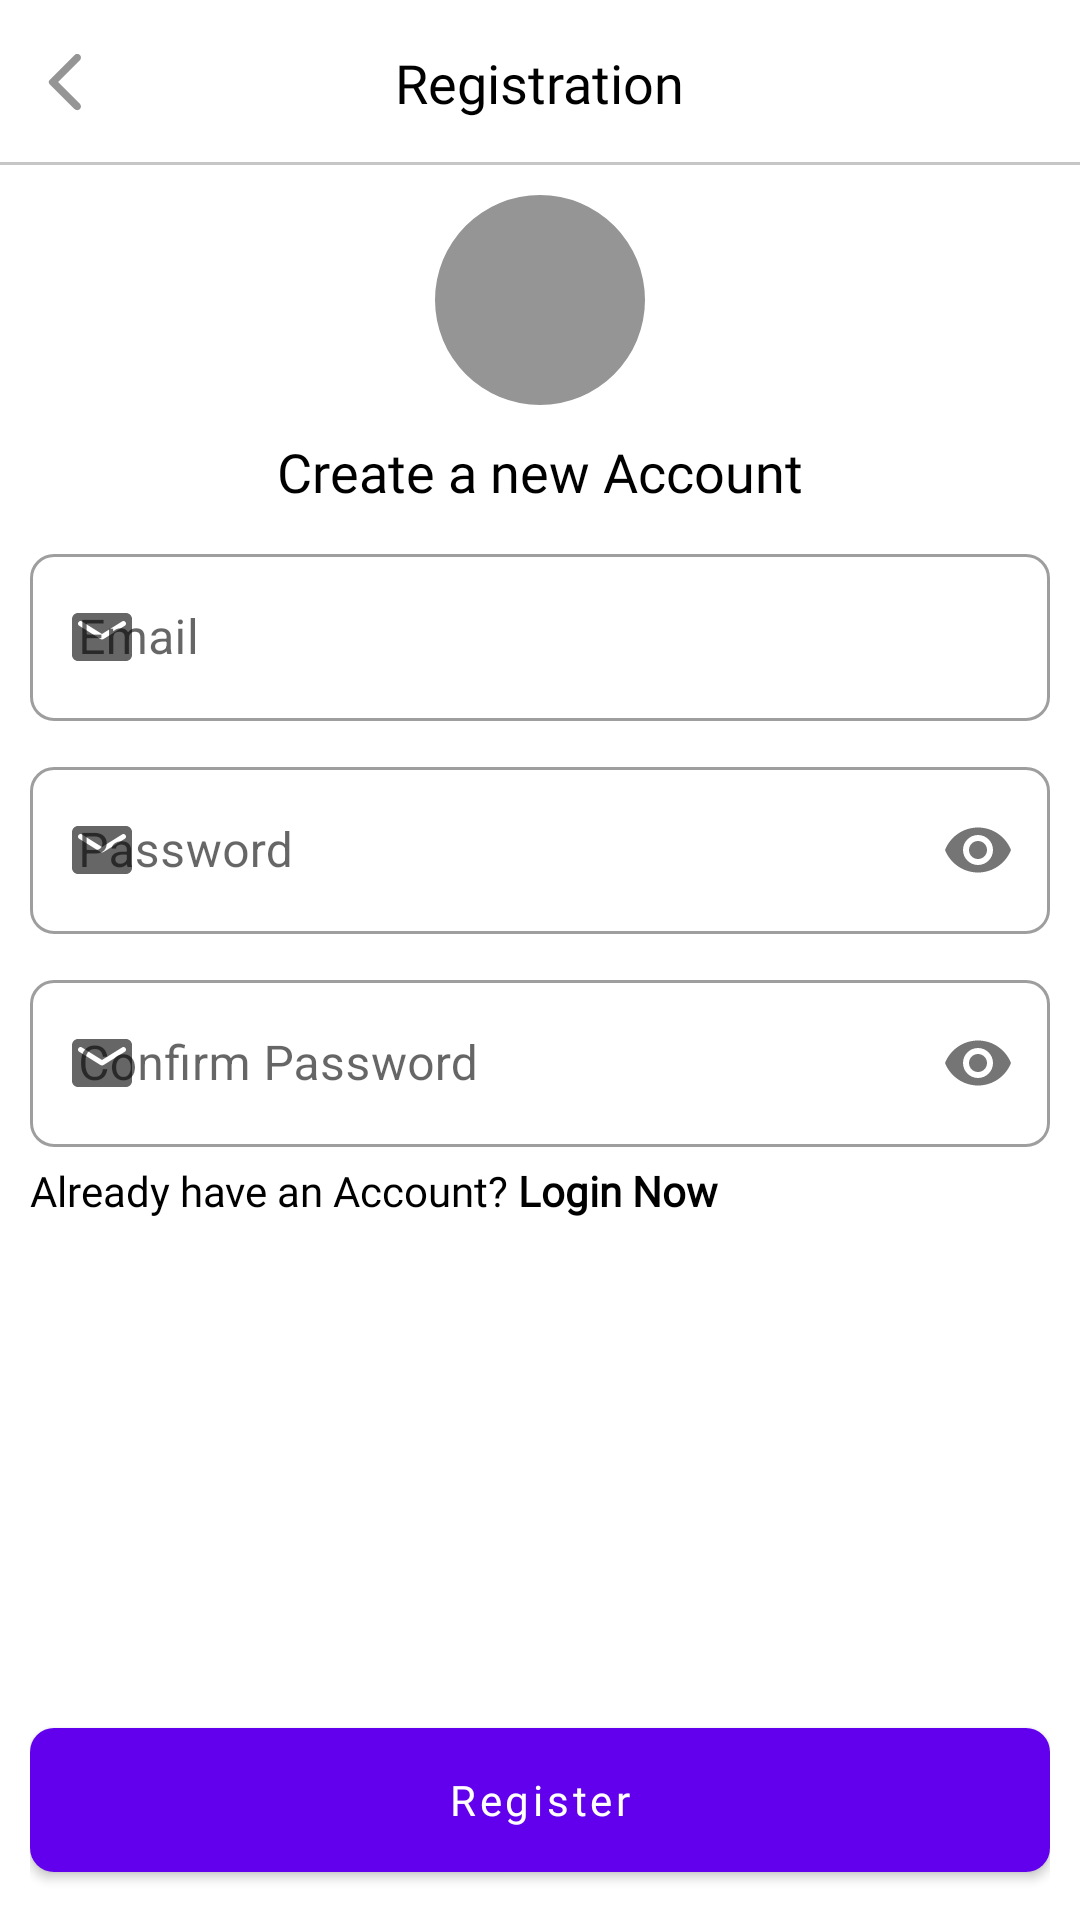

Where to tap for icons on this 1080×1920 app screen, as point (x, y):
back: point (65, 82)
